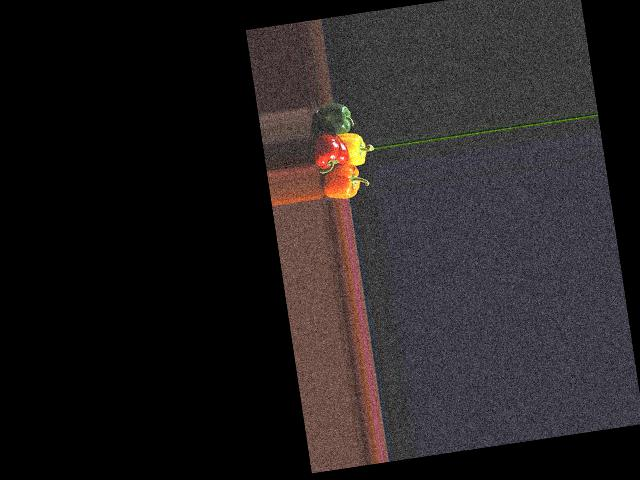bell_pepper: (314, 161, 367, 202)
